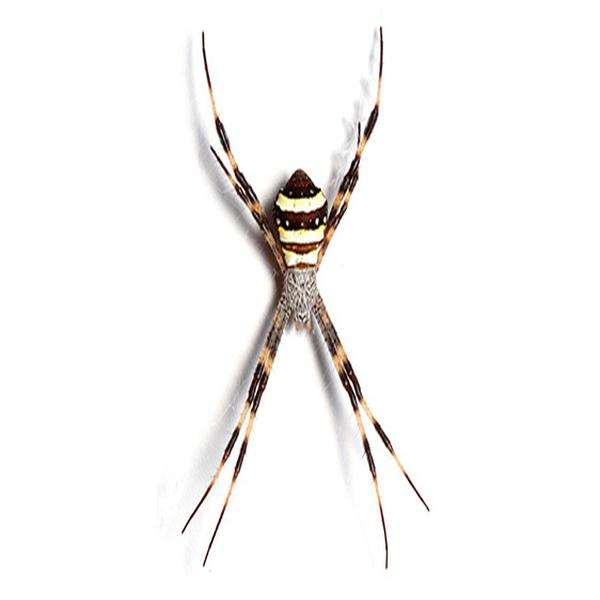St Andrew's Cross Spider: (189, 29, 422, 565)
